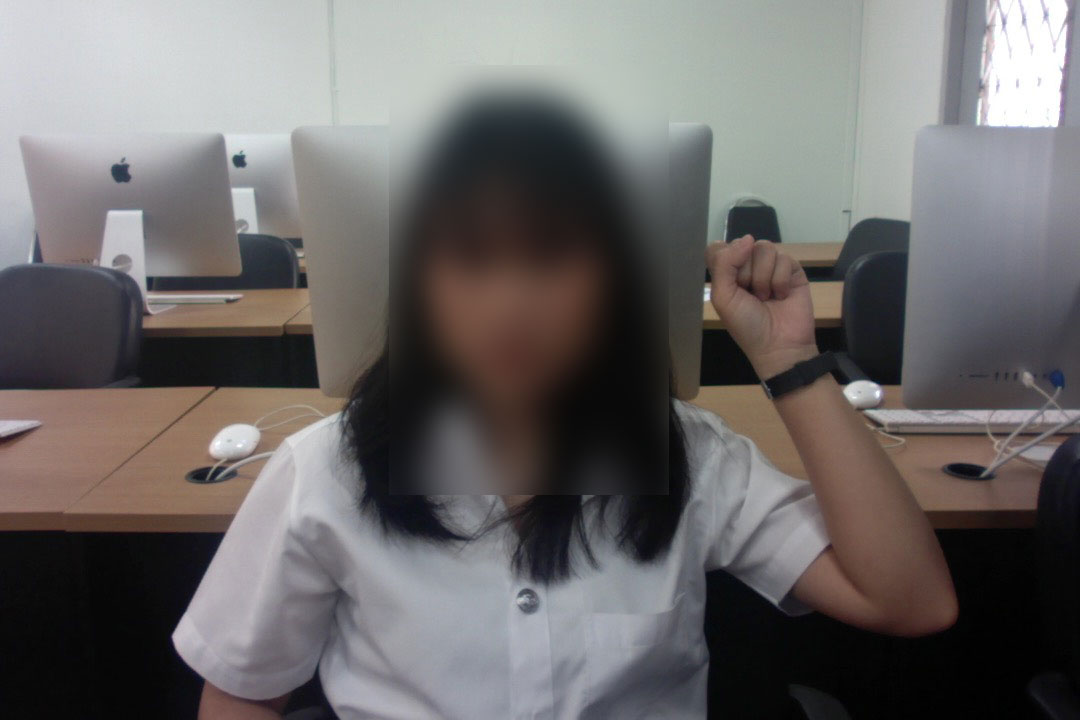sor: (703, 227, 822, 381)
